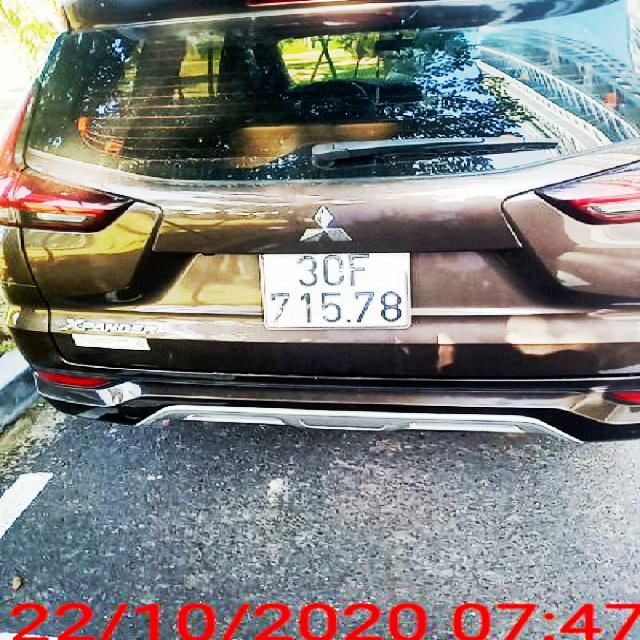license_plate: (262, 251, 414, 330)
